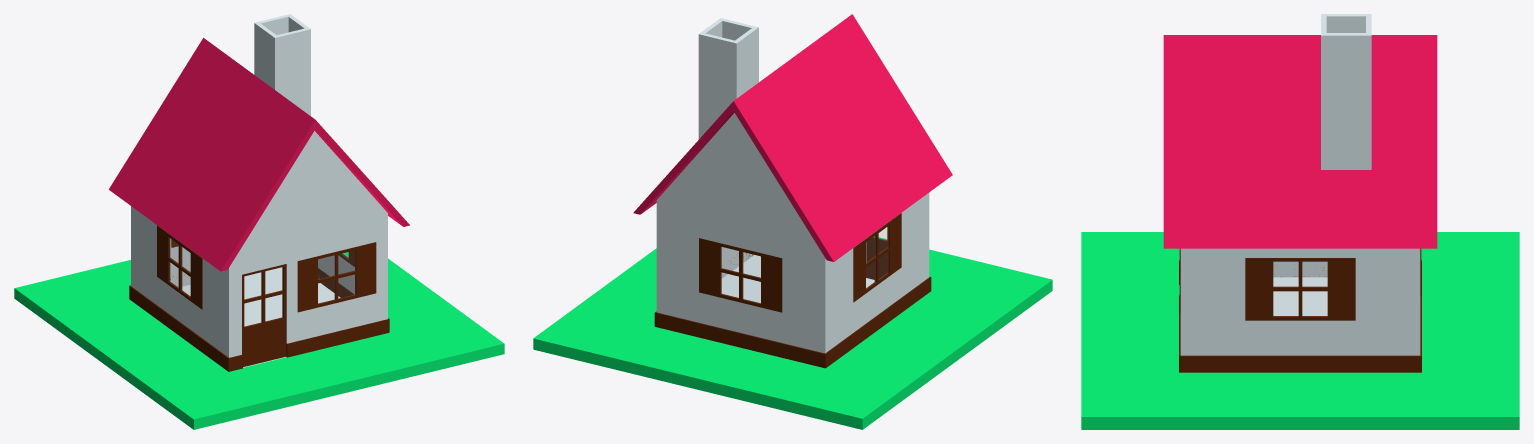
The model's file is house.fbx.
3 renders of one model, left to right at view 1: azimuth 30°, elevation 25°; view 2: azimuth 150°, elevation 25°; view 3: azimuth 270°, elevation 25°, orthographic. The views are drawn at different scales.
Visible parts, largest first — view 1: House, Grass, Window, Glass; view 2: House, Grass, Window, Glass; view 3: House, Grass, Window, Glass.
Boxes of the visible parts, left/top/right/bottom form: House: left=109, top=14, right=409, bottom=371; Grass: left=14, top=252, right=504, bottom=429; Window: left=157, top=225, right=376, bottom=366; Glass: left=170, top=239, right=354, bottom=325; House: left=633, top=14, right=952, bottom=368; Grass: left=533, top=236, right=1052, bottom=429; Window: left=699, top=213, right=901, bottom=312; Glass: left=721, top=227, right=887, bottom=302; House: left=1163, top=14, right=1437, bottom=372; Grass: left=1081, top=232, right=1519, bottom=429; Window: left=1179, top=248, right=1421, bottom=320; Glass: left=1274, top=262, right=1326, bottom=315.
Bounding box in the file's own units: 2282 × 1941 × 2282.
